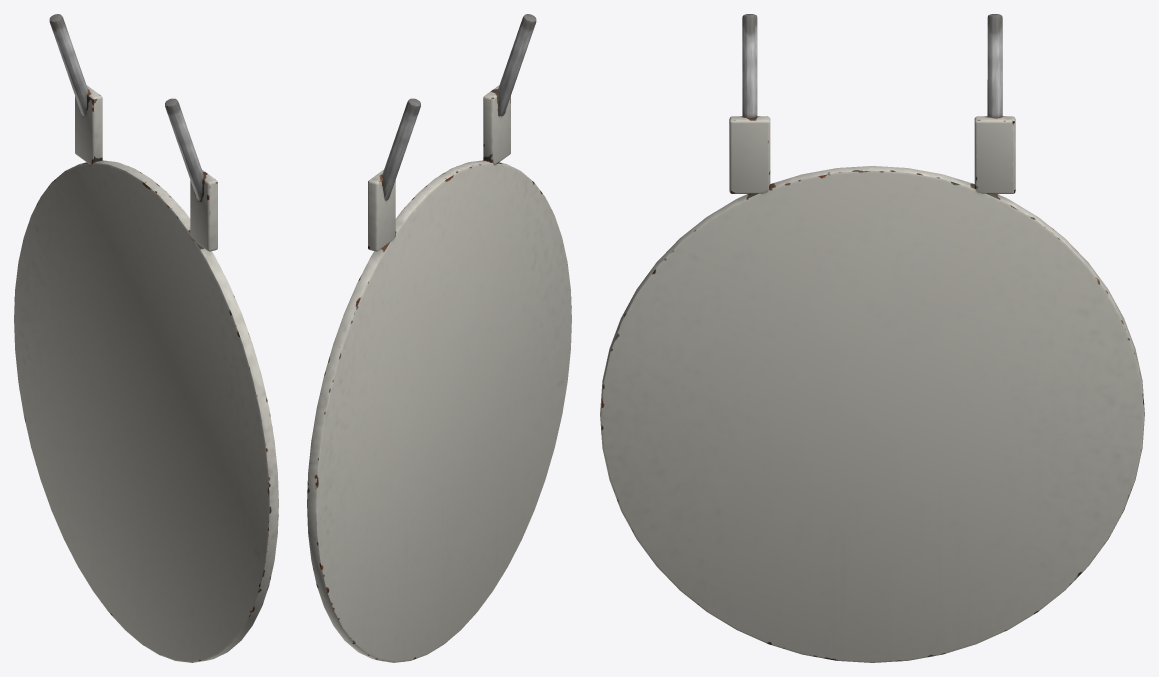
The model's file is SM_SteelTarget_Plate.fbx.
The picture shows the model from 3 angles, left to right: view 1: azimuth 30°, elevation 25°; view 2: azimuth 150°, elevation 25°; view 3: azimuth 270°, elevation 25°; orthographic projection. The views are drawn at different scales.
Visible parts, largest first — view 1: SteelTarget_Plate; view 2: SteelTarget_Plate; view 3: SteelTarget_Plate.
Boxes of the visible parts, x1,y1,x2,y2 form: SteelTarget_Plate: (14, 14, 278, 662); SteelTarget_Plate: (307, 14, 571, 662); SteelTarget_Plate: (600, 14, 1144, 662).
Size of the model in its own units: 0.4 by 0.0394 by 0.5111.
1 material, 1 textured.
